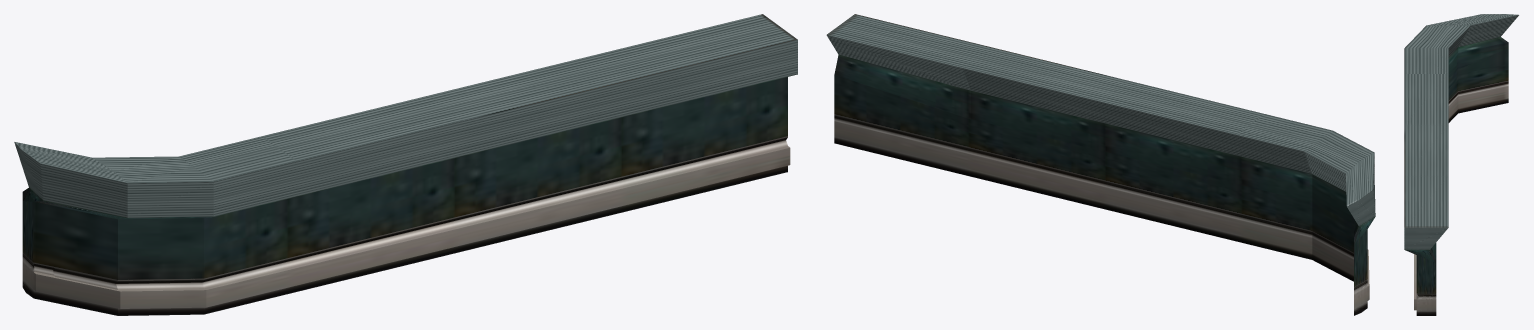
The model's file is bar.fbx.
The picture shows the model from 3 angles, left to right: view 1: azimuth 30°, elevation 25°; view 2: azimuth 150°, elevation 25°; view 3: azimuth 270°, elevation 25°; orthographic projection. The views are drawn at different scales.
Visible parts, largest first — view 1: Cube.001; view 2: Cube.001; view 3: Cube.001.
Boxes of the visible parts, x1=… form: Cube.001: x1=14, y1=14, x2=797, y2=315; Cube.001: x1=826, y1=14, x2=1375, y2=315; Cube.001: x1=1404, y1=14, x2=1518, y2=315.
Bounding box in the file's own units: 1042 × 204 × 237.
1 material, 1 textured.
